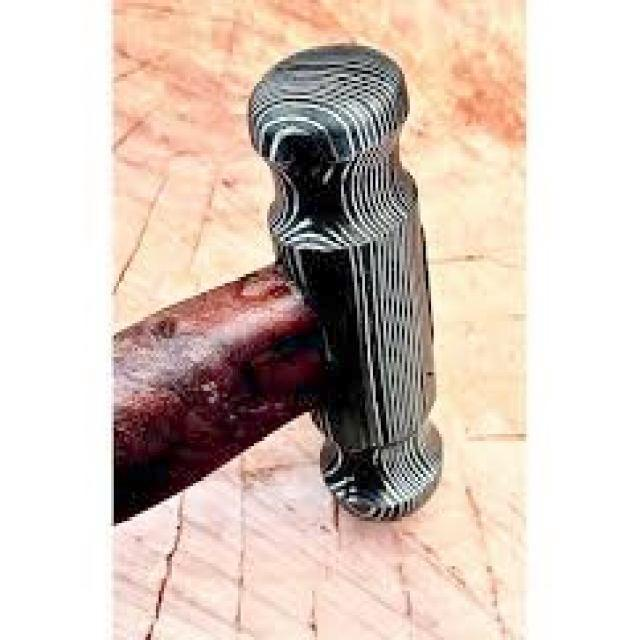hammer: (112, 40, 448, 532)
